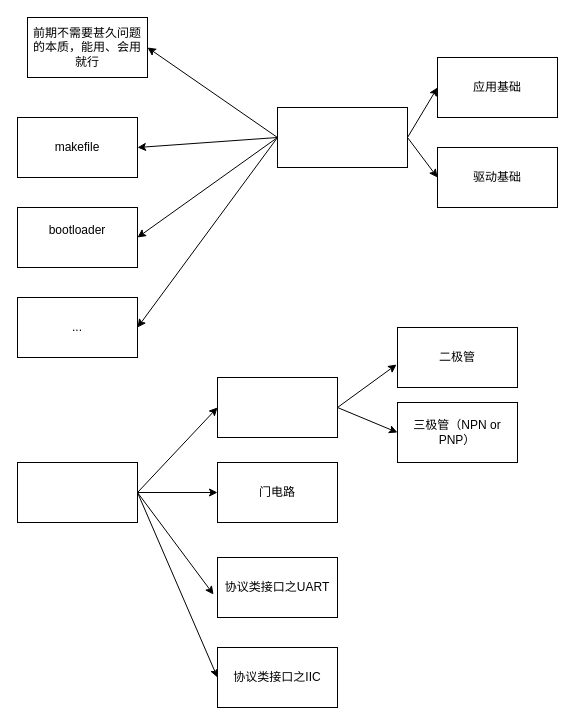
The diagram is 575 pixels wide and 725 high, and some of its shapes have lost their labels. Each missing label, with the box of its shape:
上拉、下拉电阻：对于输入引脚，可以用它确定状态: (216, 376, 338, 438)
学看电路图: (16, 462, 138, 522)
总体: (276, 106, 408, 168)
